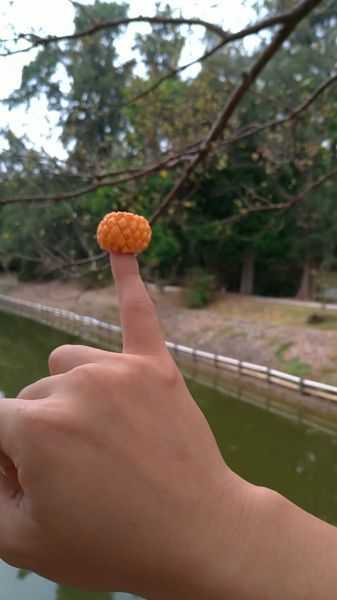eggs: (95, 210, 150, 255)
